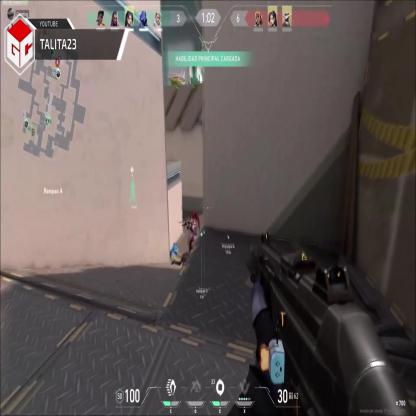enemy: (185, 208, 197, 262)
enemy_head: (189, 212, 196, 221)
